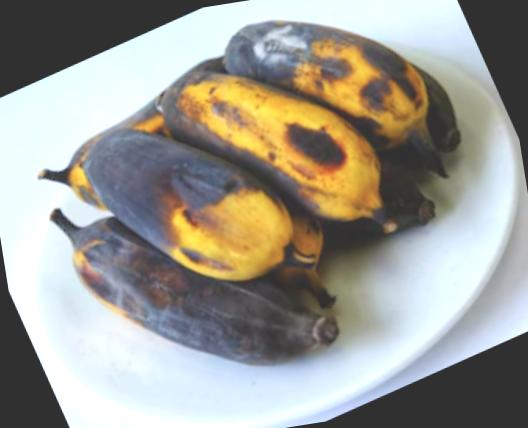Banana Overripe: (17, 0, 516, 420)
